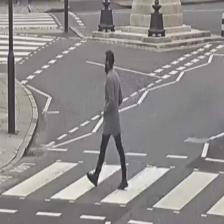person: (86, 49, 128, 188)
